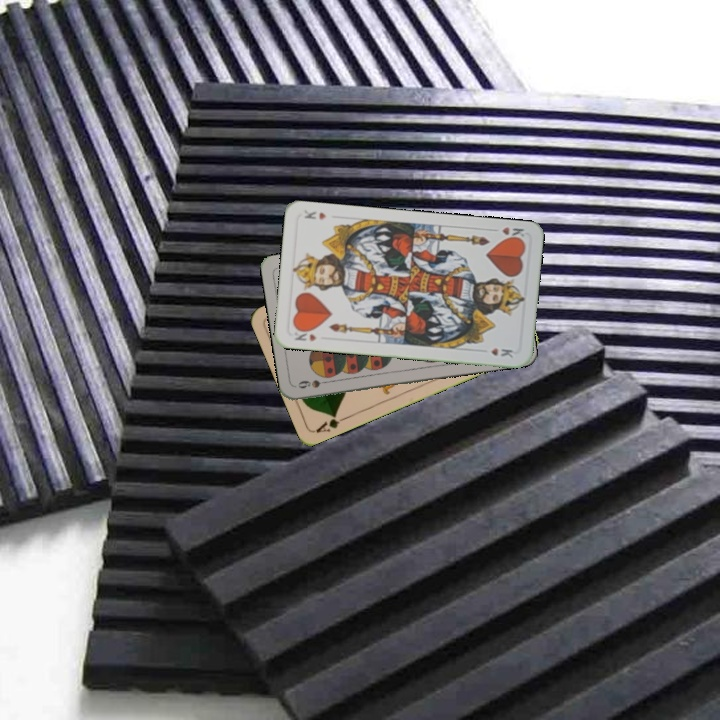GA: (312, 409, 350, 436)
HK: (487, 223, 527, 243), (290, 325, 319, 344)
S9: (294, 376, 334, 391)
